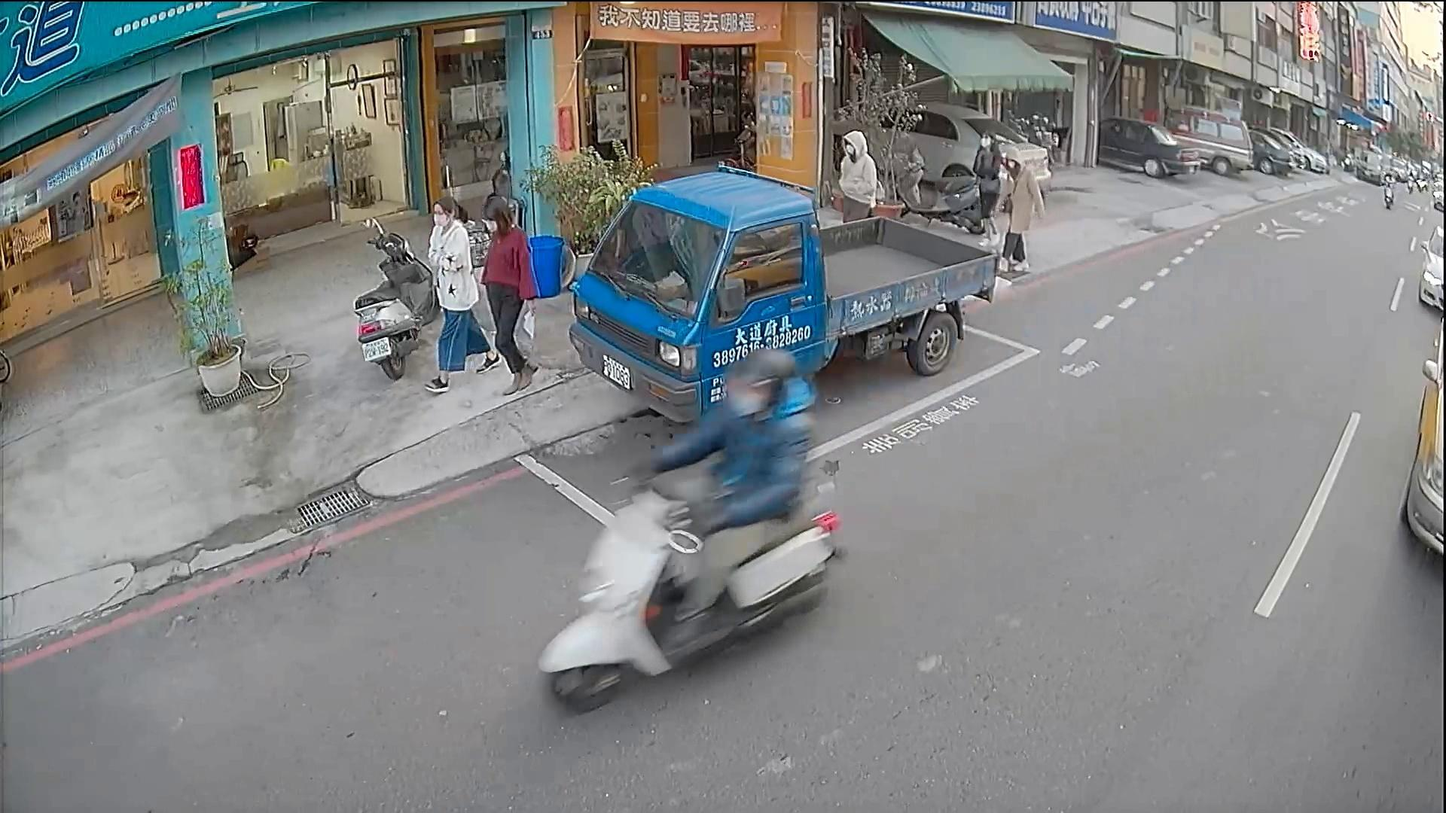person: (624, 321, 820, 667), (472, 187, 541, 384), (427, 191, 486, 385), (993, 145, 1045, 275), (970, 132, 1009, 241), (833, 128, 878, 218), (1382, 169, 1392, 191)
